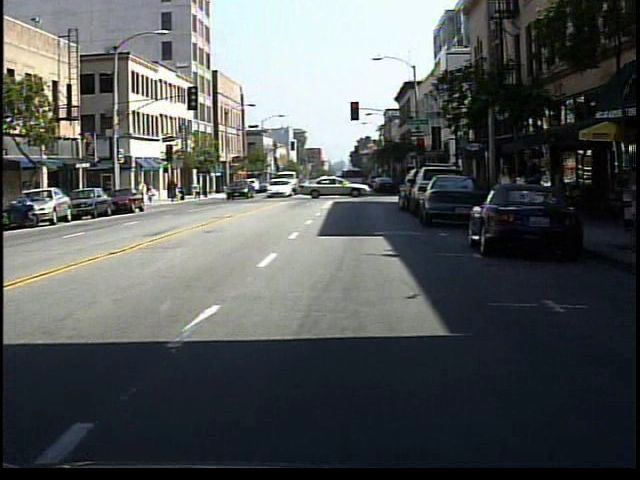person: (513, 149, 542, 243), (495, 157, 518, 237), (147, 180, 160, 207)
